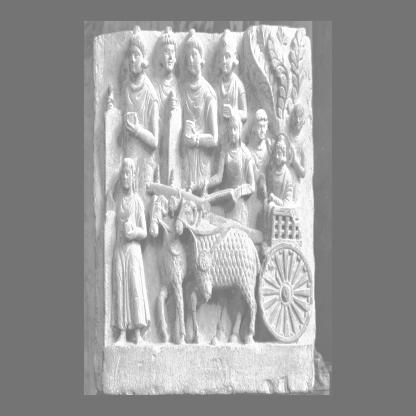buddha-sitting: (269, 134, 292, 207)
